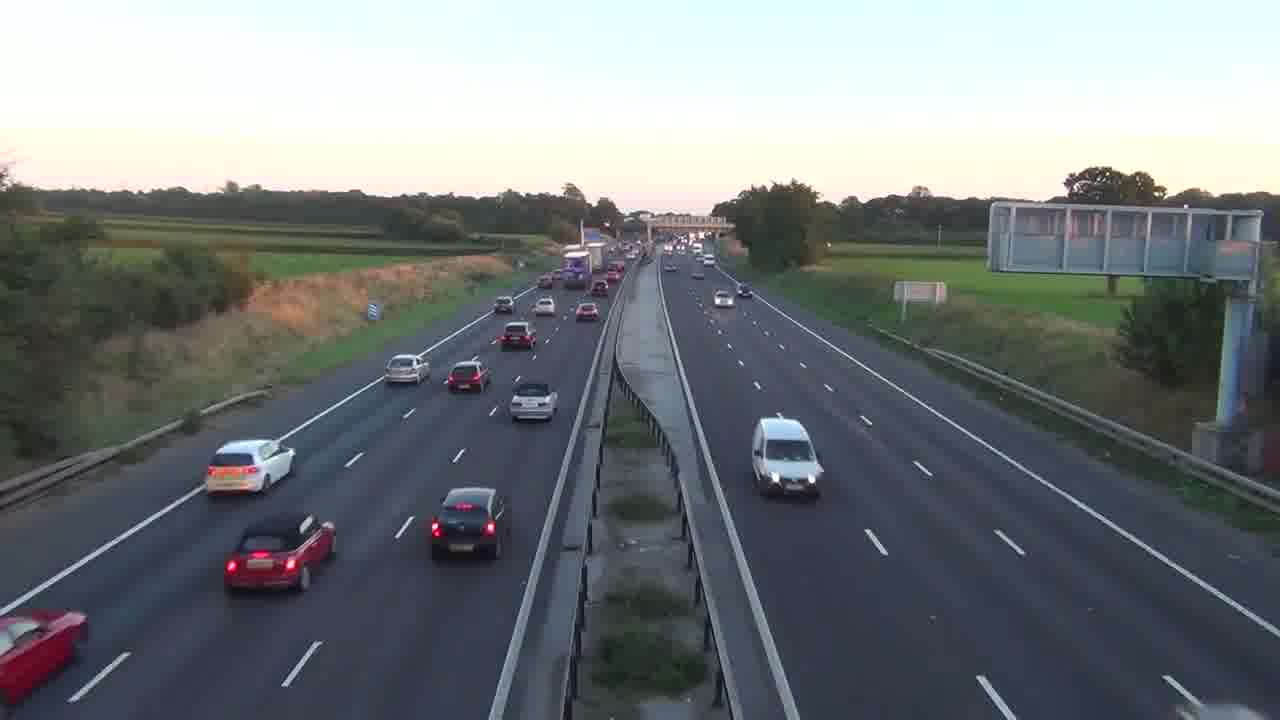car: (223, 514, 337, 592), (429, 486, 512, 559), (205, 438, 296, 496), (508, 376, 559, 423), (445, 357, 492, 393), (383, 352, 432, 386), (498, 320, 537, 351), (574, 302, 599, 323), (713, 289, 736, 307), (494, 295, 514, 314)
truck: (0, 607, 90, 706), (751, 415, 825, 499)
